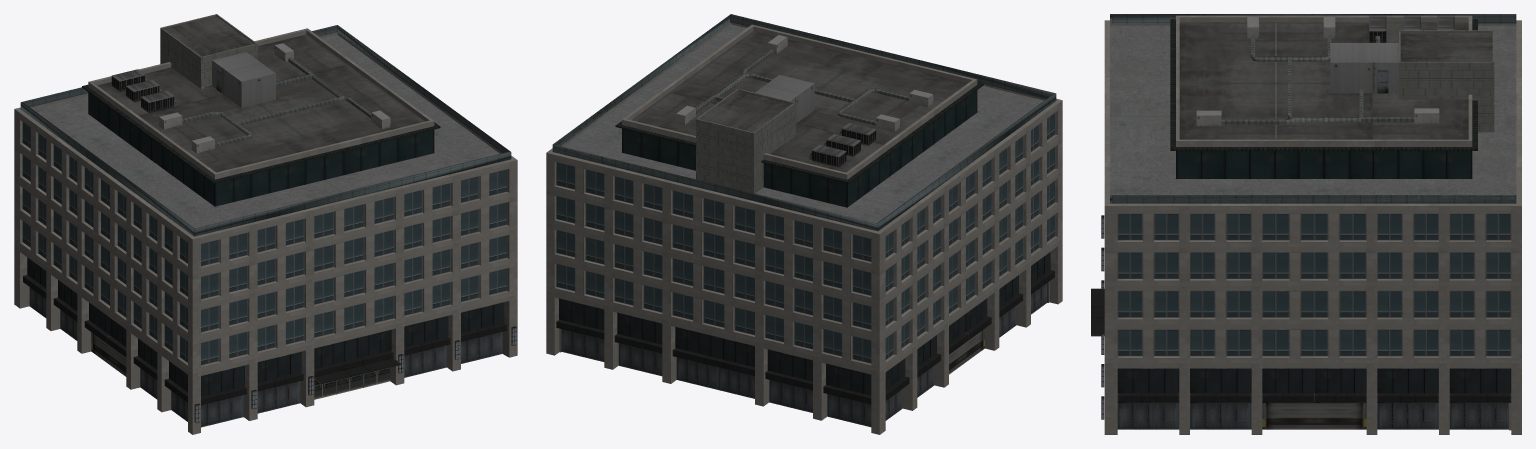
The model's file is grid_block.glb.
3 renders of one model, left to right at view 1: azimuth 30°, elevation 25°; view 2: azimuth 150°, elevation 25°; view 3: azimuth 270°, elevation 25°, orthographic. The views are drawn at different scales.
Visible parts, largest first — view 1: grid_block; view 2: grid_block; view 3: grid_block.
Part boxes in pixels (x1,y1,x2,y2): grid_block: [14, 14, 517, 434]; grid_block: [546, 14, 1062, 434]; grid_block: [1091, 14, 1521, 434].
Bounding box in the file's own units: 32 × 23.76 × 31.37.
1 material, 1 textured.
